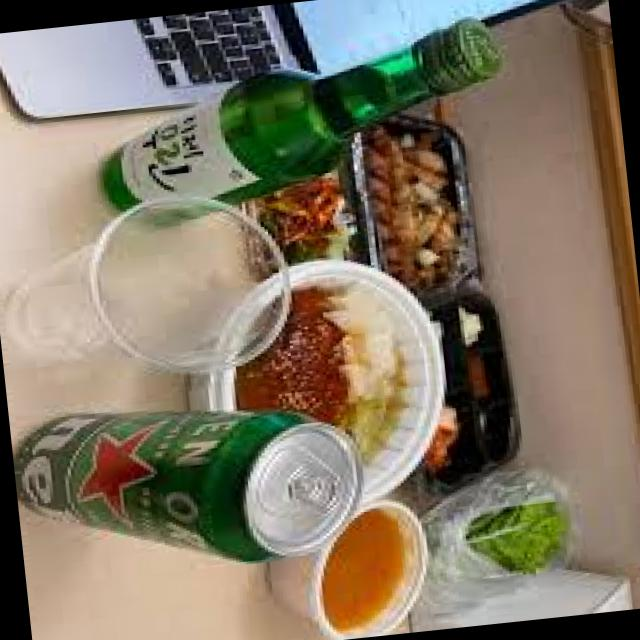can: (11, 402, 371, 570)
glass bottle: (92, 6, 512, 235)
plastic-bag: (405, 461, 583, 625)
plastic-bowl: (0, 185, 304, 378), (215, 257, 448, 500), (398, 286, 531, 505), (345, 109, 491, 294), (262, 495, 434, 640), (237, 131, 386, 286)
